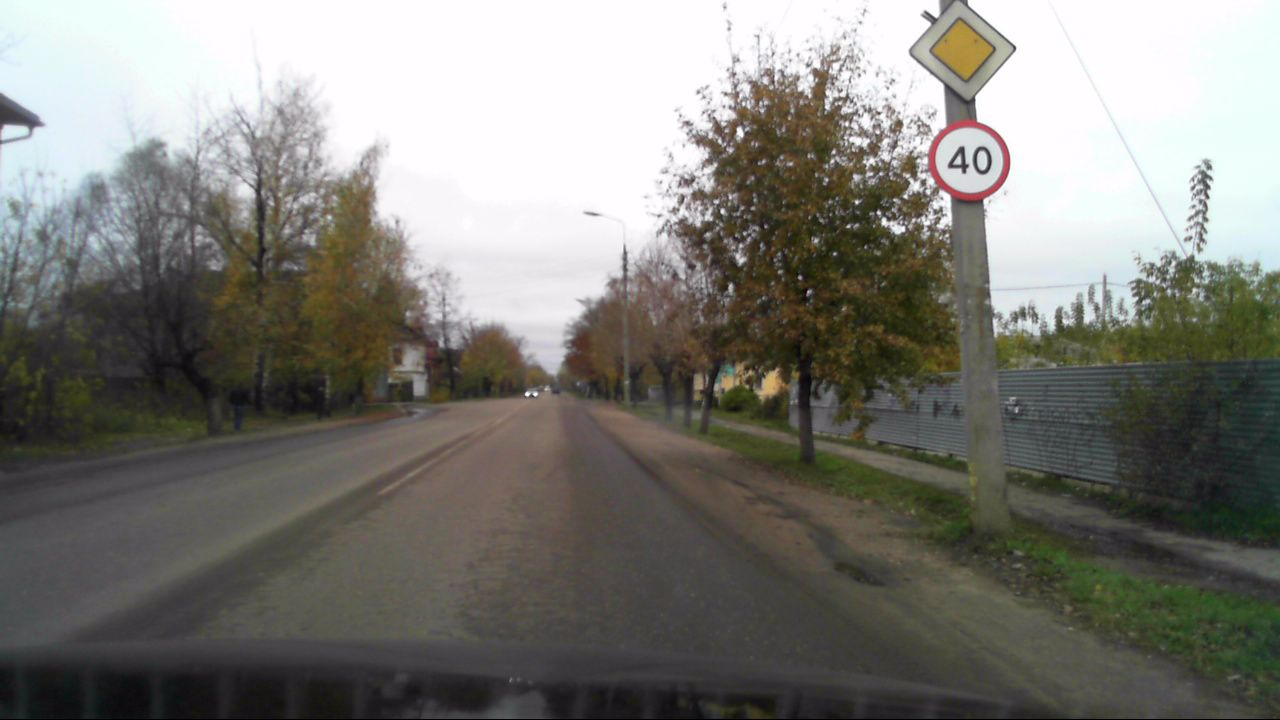speed_warning_40: (928, 120, 1013, 207)
